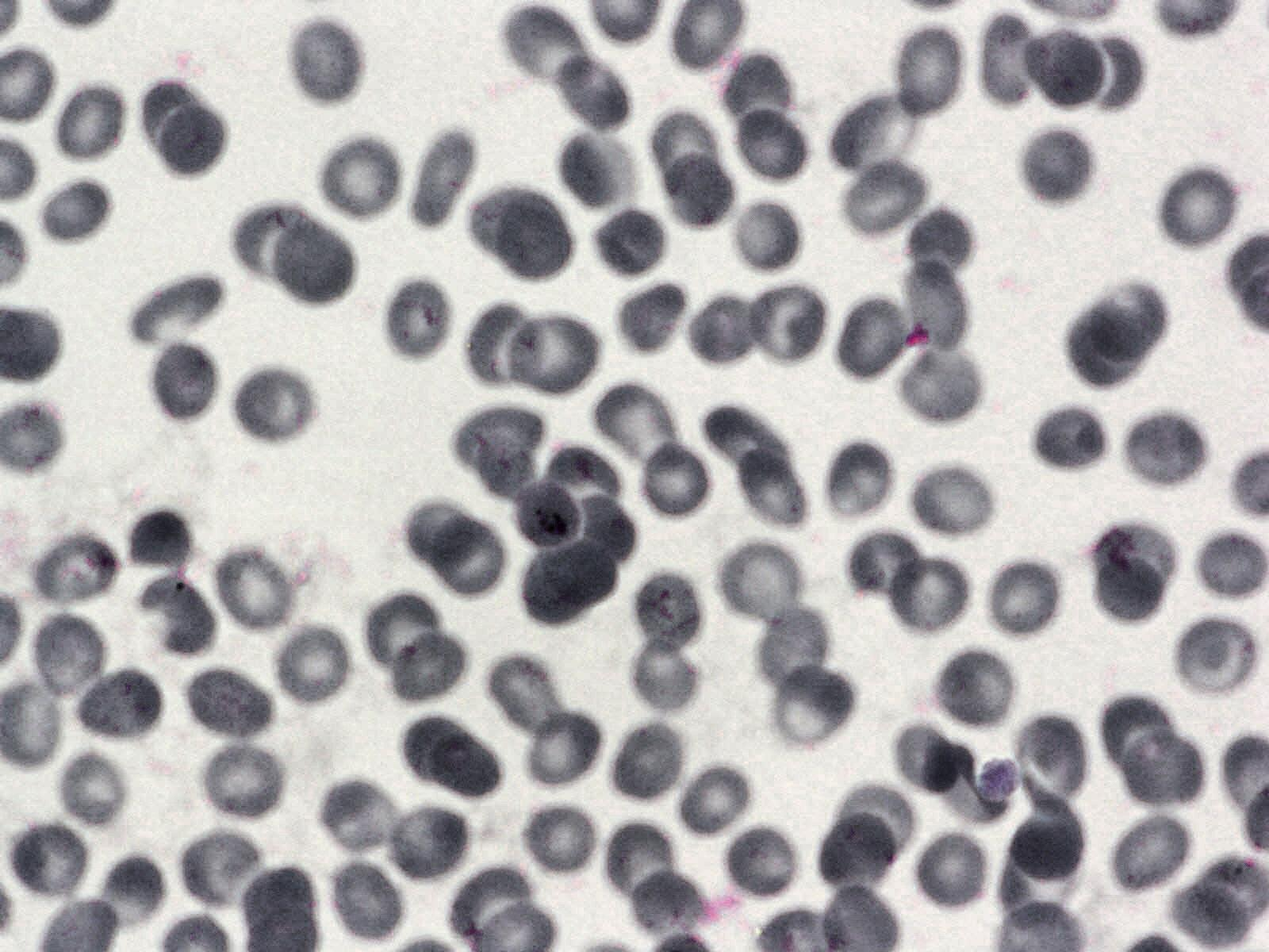Uninfected: (1060, 289, 1168, 390), (473, 184, 573, 282), (503, 305, 604, 400), (822, 86, 924, 178), (587, 382, 678, 472), (210, 542, 297, 635), (1002, 789, 1083, 888), (316, 135, 404, 225), (767, 663, 855, 753), (977, 13, 1057, 111), (69, 662, 163, 745), (889, 342, 987, 421), (835, 294, 919, 386), (740, 280, 828, 367), (178, 824, 265, 912), (380, 800, 472, 883), (521, 543, 615, 624), (282, 13, 368, 101), (1018, 711, 1096, 808), (1172, 612, 1263, 695), (816, 805, 899, 896), (1020, 26, 1111, 109), (1156, 164, 1241, 252), (488, 654, 572, 743), (889, 25, 968, 119), (409, 125, 481, 228), (198, 741, 288, 823), (181, 665, 274, 743), (720, 52, 805, 137), (933, 647, 1019, 731), (232, 364, 319, 447), (1120, 409, 1208, 491), (519, 704, 602, 790), (30, 612, 105, 707), (727, 440, 803, 533), (33, 531, 120, 612), (325, 858, 405, 945), (274, 623, 354, 710), (886, 556, 974, 635), (687, 290, 775, 369), (9, 821, 92, 904), (722, 533, 802, 619), (275, 223, 356, 307), (135, 574, 215, 659), (914, 828, 992, 913), (907, 463, 994, 539), (521, 801, 601, 882), (888, 717, 969, 797), (316, 776, 397, 856), (595, 819, 677, 898), (381, 275, 455, 362), (53, 84, 130, 167), (556, 125, 633, 208), (1125, 727, 1199, 813), (724, 823, 803, 903), (637, 440, 714, 522), (450, 872, 536, 945), (1088, 516, 1175, 588), (986, 560, 1068, 636), (1010, 122, 1091, 198), (761, 610, 830, 699), (724, 198, 800, 278), (508, 7, 588, 83), (904, 263, 970, 354), (822, 440, 896, 521), (634, 572, 705, 656), (607, 726, 684, 803), (590, 206, 668, 282), (554, 55, 630, 132), (33, 176, 114, 248), (1031, 401, 1113, 472), (618, 282, 690, 362), (134, 275, 224, 339), (841, 785, 921, 856), (433, 516, 502, 598), (359, 591, 437, 663), (735, 109, 814, 180), (842, 164, 924, 232), (707, 405, 787, 474), (458, 400, 544, 464), (95, 853, 162, 935), (1167, 885, 1251, 949), (155, 105, 227, 179), (845, 528, 921, 598), (468, 305, 537, 382), (653, 109, 719, 189), (238, 207, 319, 272), (1104, 697, 1173, 773), (1110, 817, 1187, 884), (678, 766, 750, 837), (396, 720, 473, 785), (125, 509, 195, 580), (1194, 858, 1267, 925), (59, 754, 125, 828), (631, 640, 696, 715), (1095, 555, 1164, 625), (154, 348, 217, 424), (664, 156, 733, 225), (435, 733, 504, 801), (395, 635, 466, 701), (511, 482, 581, 547), (408, 505, 479, 567), (911, 206, 976, 272), (1196, 535, 1267, 595), (578, 495, 638, 562), (631, 870, 696, 928), (477, 439, 537, 498), (147, 82, 203, 144)
